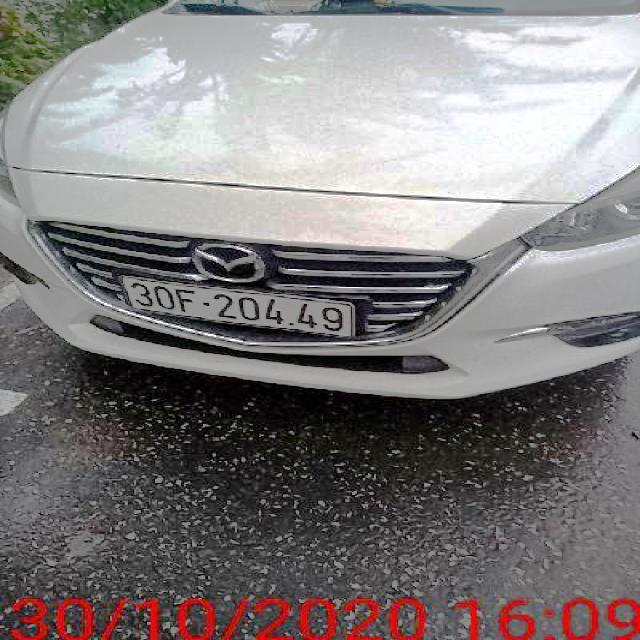license_plate: (124, 275, 355, 338)
